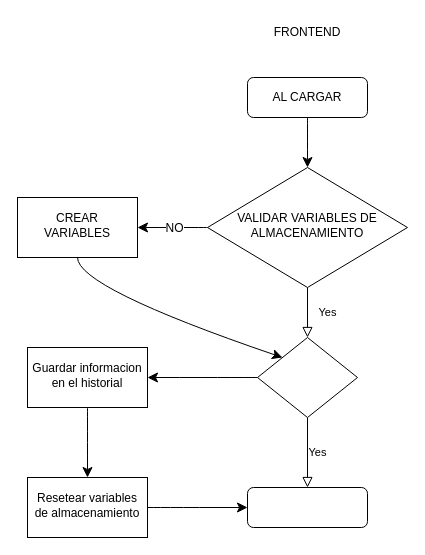
Some shapes in this 425 by 555 pixel diagram are drawn without their labels. Here are the shapes that lost their labels. From the top down, the centre of each, then its label:
At point (307, 377): "VALIDAR FECHA".
At point (307, 507): "CARGAR VALORES DE FRONT END".
